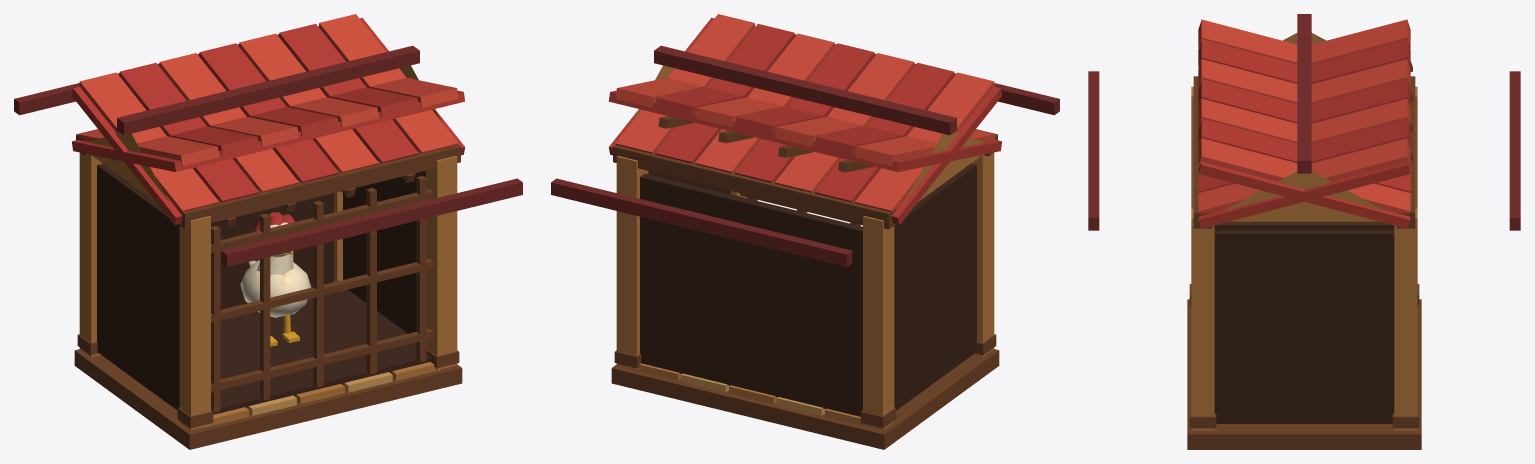
File: asset.glb
The picture shows the model from 3 angles, left to right: view 1: azimuth 30°, elevation 25°; view 2: azimuth 150°, elevation 25°; view 3: azimuth 270°, elevation 25°; orthographic projection.
Parts seen in each view (by area): view 1: LeftInteriorWall, InteriorFloor, FloorPlatform, Post_3, RoofRidgeCap, RightInteriorWall, FrontRoofFascia, Post_4, FrontTopBeam, RoofFrontBoard_1, RoofFrontBoard_4, RoofFrontBoard_3 (+30 smaller); view 2: RearInteriorWall, LeftInteriorWall, FloorPlatform, Post_1, RoofRidgeCap, RearRoofFascia, RearTopBeam, Post_2, RoofRearBoard_1, RoofRearBoard_3, RoofRearBoard_6, RoofRearBoard_7 (+15 smaller); view 3: RightInteriorWall, FloorPlatform, Post_2, Post_4, RoofFrontBoard_7, RoofRearBoard_7, RightGable, RedRoofFront, RedRoofRear, RoofFrontBoard_6, RoofRearBoard_6, RoofRidgeCap (+16 smaller).
Part boxes in pixels (x1,y1,x2,y2): LeftInteriorWall: (97, 163, 179, 410); InteriorFloor: (211, 289, 430, 414); FloorPlatform: (74, 349, 462, 449); Post_3: (179, 216, 210, 430); RoofRidgeCap: (117, 45, 419, 135); RightInteriorWall: (343, 171, 425, 333); FrontRoofFascia: (221, 178, 522, 266); Post_4: (425, 156, 457, 370); FrontTopBeam: (176, 145, 460, 229); RoofFrontBoard_1: (79, 72, 218, 213); RoofFrontBoard_4: (199, 43, 338, 182); RoofFrontBoard_3: (159, 53, 298, 192); RearInteriorWall: (640, 173, 862, 416); LeftInteriorWall: (894, 163, 976, 410); FloorPlatform: (611, 349, 999, 449); Post_1: (863, 216, 894, 430); RoofRidgeCap: (654, 45, 956, 135); RearRoofFascia: (551, 178, 852, 266); RearTopBeam: (613, 145, 897, 229); Post_2: (616, 156, 648, 370); RoofRearBoard_1: (855, 72, 994, 212); RoofRearBoard_3: (775, 53, 914, 192); RoofRearBoard_6: (655, 24, 795, 163); RoofRearBoard_7: (615, 14, 755, 153); RightInteriorWall: (1214, 229, 1394, 423); FloorPlatform: (1187, 299, 1421, 449); Post_2: (1394, 208, 1417, 430); Post_4: (1191, 208, 1214, 430); RoofFrontBoard_7: (1198, 138, 1410, 215); RoofRearBoard_7: (1198, 138, 1410, 215); RightGable: (1223, 171, 1385, 221); RedRoofFront: (1198, 47, 1410, 228); RedRoofRear: (1198, 47, 1410, 228); RoofFrontBoard_6: (1198, 118, 1410, 192); RoofRearBoard_6: (1198, 118, 1410, 192); RoofRidgeCap: (1297, 14, 1311, 173).
Bounding box in the file's own units: 4.45 × 4.17 × 5.54.
